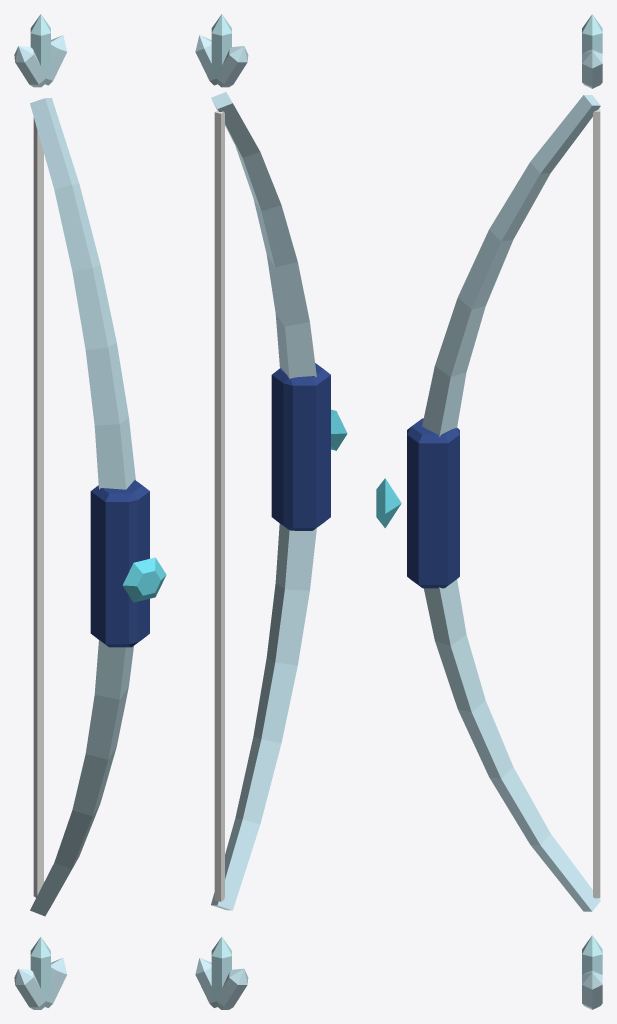
File: FrostBow.fbx
The picture shows the model from 3 angles, left to right: view 1: azimuth 30°, elevation 25°; view 2: azimuth 150°, elevation 25°; view 3: azimuth 270°, elevation 25°; orthographic projection.
Parts seen in each view (by area): view 1: FrostBow; view 2: FrostBow; view 3: FrostBow.
Boxes of the visible parts, box(x1,y1,x2,y2) form: FrostBow: box(14, 14, 166, 1009); FrostBow: box(195, 14, 347, 1009); FrostBow: box(376, 14, 602, 1009).
Size of the model in its own units: 0.2807 by 5.17 by 1.07.
Materials: 1 (1 with a texture image).
